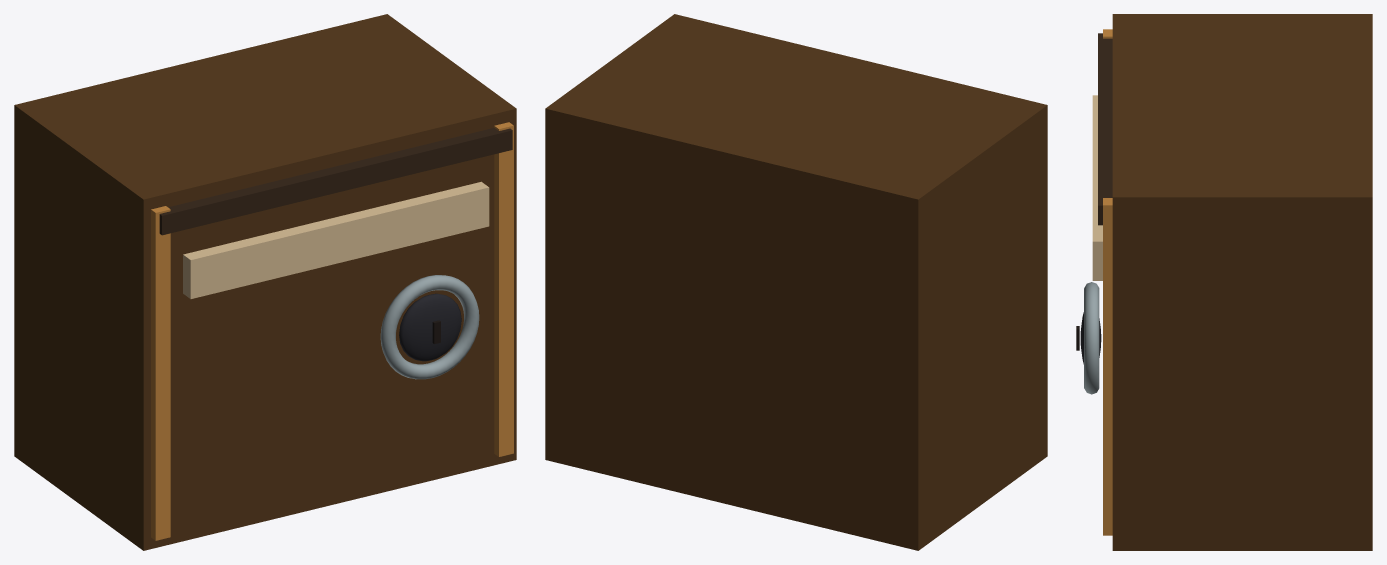
File: mia-lostbox.glb
The picture shows the model from 3 angles, left to right: view 1: azimuth 30°, elevation 25°; view 2: azimuth 150°, elevation 25°; view 3: azimuth 270°, elevation 25°; orthographic projection.
Visible parts, largest first — view 1: Body_wood, Body_ivory, Body_brass, Body_grain, Body_steel, Body_iron; view 2: Body_wood; view 3: Body_wood, Body_brass, Body_grain, Body_steel, Body_ivory.
Boxes of the visible parts, box(x1,y1,x2,y2) form: Body_wood: box(14, 14, 516, 550); Body_ivory: box(183, 181, 489, 298); Body_brass: box(151, 122, 513, 540); Body_grain: box(159, 128, 512, 235); Body_steel: box(380, 275, 479, 379); Body_iron: box(399, 293, 461, 361); Body_wood: box(545, 14, 1047, 550); Body_wood: box(1112, 14, 1372, 550); Body_brass: box(1103, 29, 1112, 535); Body_grain: box(1098, 33, 1112, 225); Body_steel: box(1084, 282, 1099, 394); Body_ivory: box(1092, 95, 1102, 280).
Size of the model in its own units: 0.5 by 0.45 by 0.342.
